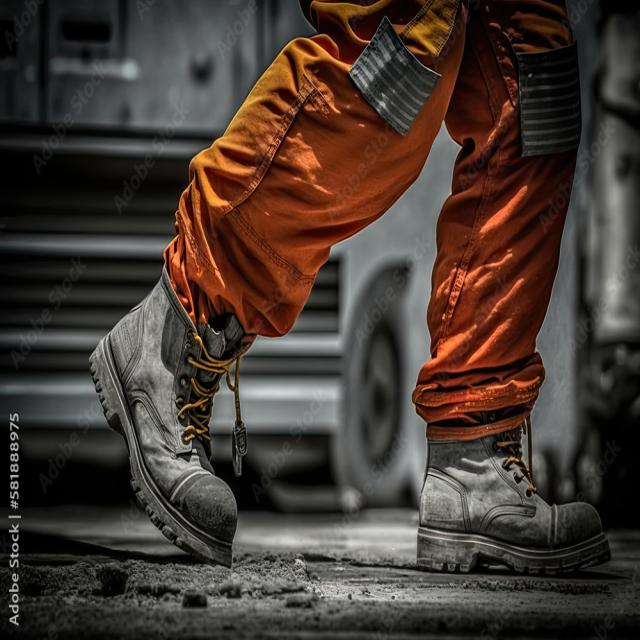shoes: (88, 264, 242, 568), (406, 425, 609, 570)
